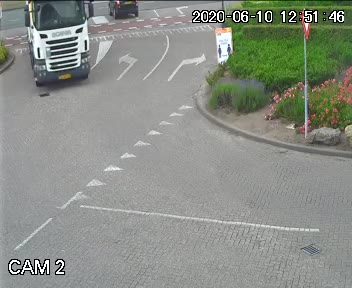car: (19, 0, 98, 101), (106, 0, 143, 24)
